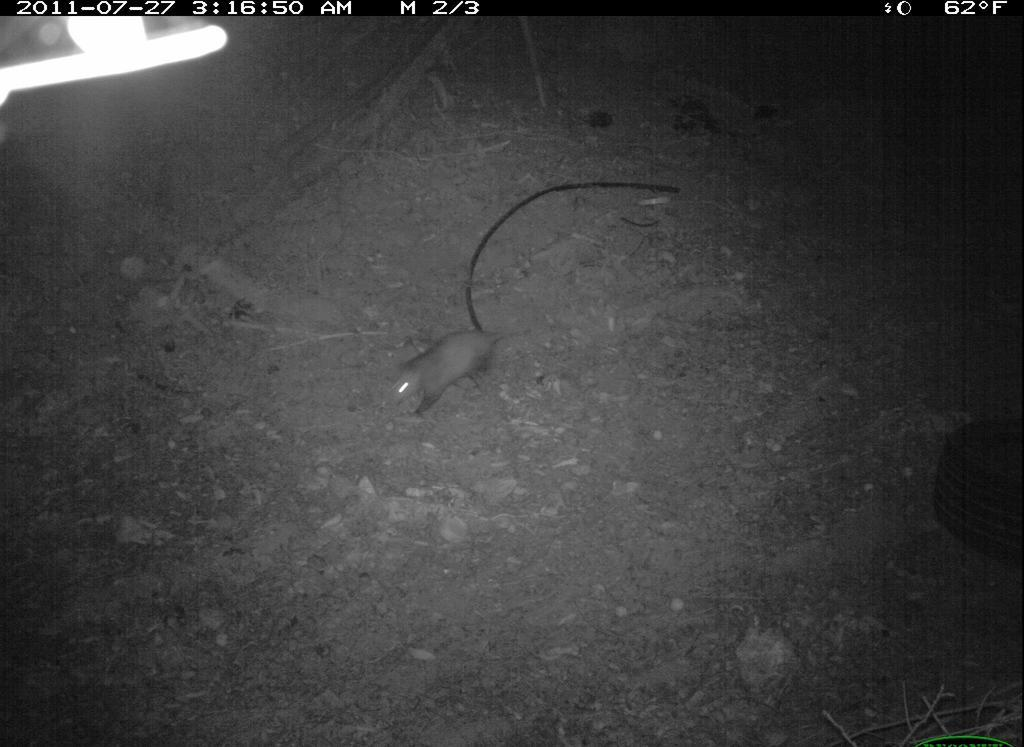opossum: (382, 313, 545, 427)
